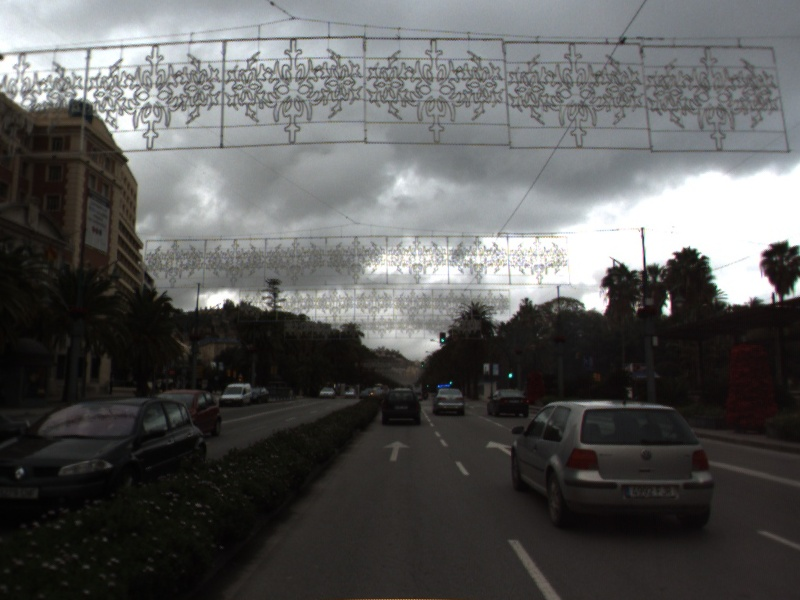STRAIGHT: (381, 439, 412, 463), (484, 438, 514, 457)
